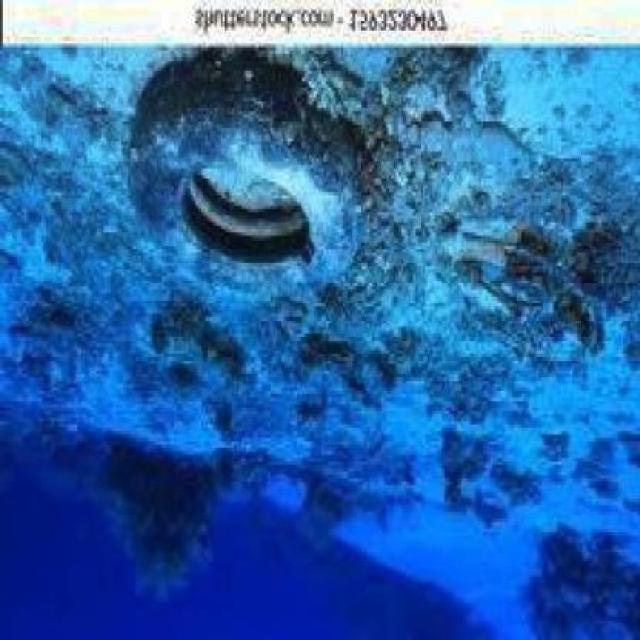tire: (118, 40, 358, 300)
